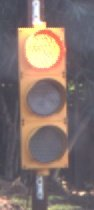Red: (12, 23, 76, 179)
